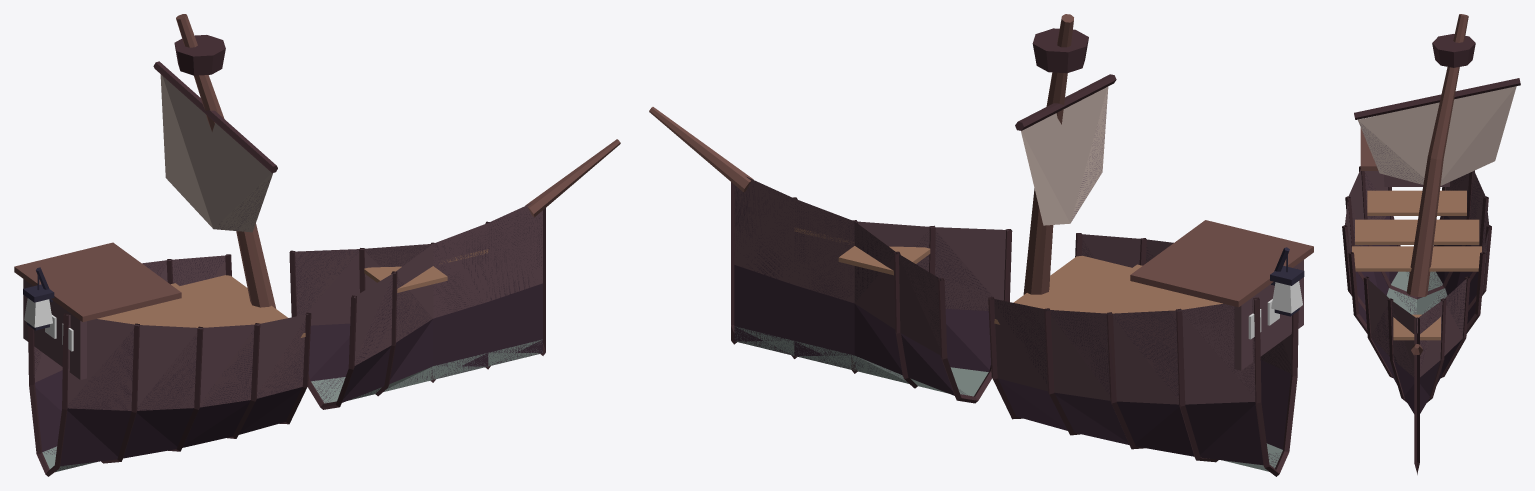
File: Fair_Wreck.fbx
3 views of the same model, side by side, from view 1: azimuth 30°, elevation 25°; view 2: azimuth 150°, elevation 25°; view 3: azimuth 270°, elevation 25° (orthographic). The views are drawn at different scales.
Parts seen in each view (by area): view 1: Fair_Wreck; view 2: Fair_Wreck; view 3: Fair_Wreck.
Boxes of the visible parts, x1,y1,x2,y2 form: Fair_Wreck: (14, 14, 620, 476); Fair_Wreck: (649, 14, 1313, 476); Fair_Wreck: (1342, 14, 1520, 474).
Size of what is drawn, in the model's own units: 17.93 by 11.64 by 5.73.
Materials: 2 (1 with a texture image).
